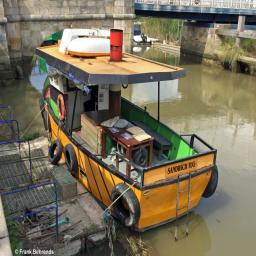tugboat: (34, 29, 222, 239)
